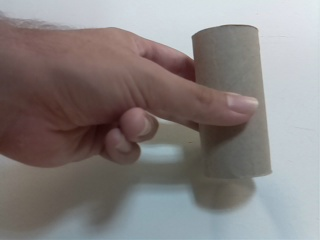rollo papel: (188, 23, 278, 182)
